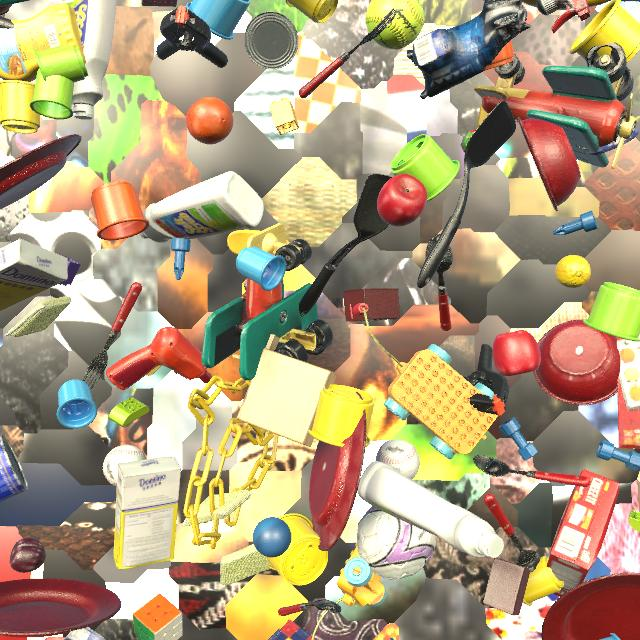ycb_002_master_chef_can: (0, 434, 28, 503)
ycb_003_cracker_box: (547, 469, 620, 597), (616, 334, 640, 449)
ycb_004_sugar_box: (113, 457, 181, 569), (0, 238, 68, 311)
ycb_006_mustard_bottle: (0, 3, 86, 82)
ycb_007_tuna_fish_can: (244, 11, 299, 70), (587, 113, 639, 155), (64, 627, 106, 640)
ycb_011_banana: (522, 0, 611, 10)
ycb_012_strawberry: (461, 130, 475, 153)
ycb_013_apple: (377, 174, 427, 227), (492, 330, 541, 376)
ycb_014_lemon: (555, 255, 591, 288)
ycb_017_orange: (186, 97, 234, 145)
ycb_018_plum: (10, 538, 46, 573)
